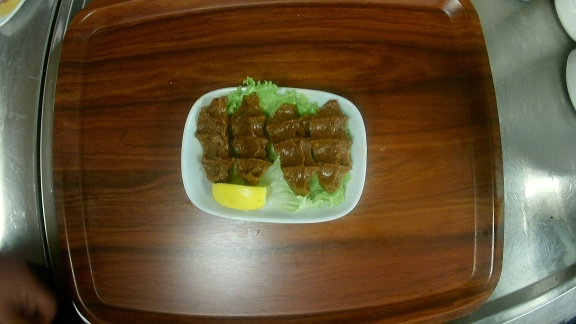cigkofte: (181, 84, 368, 222)
